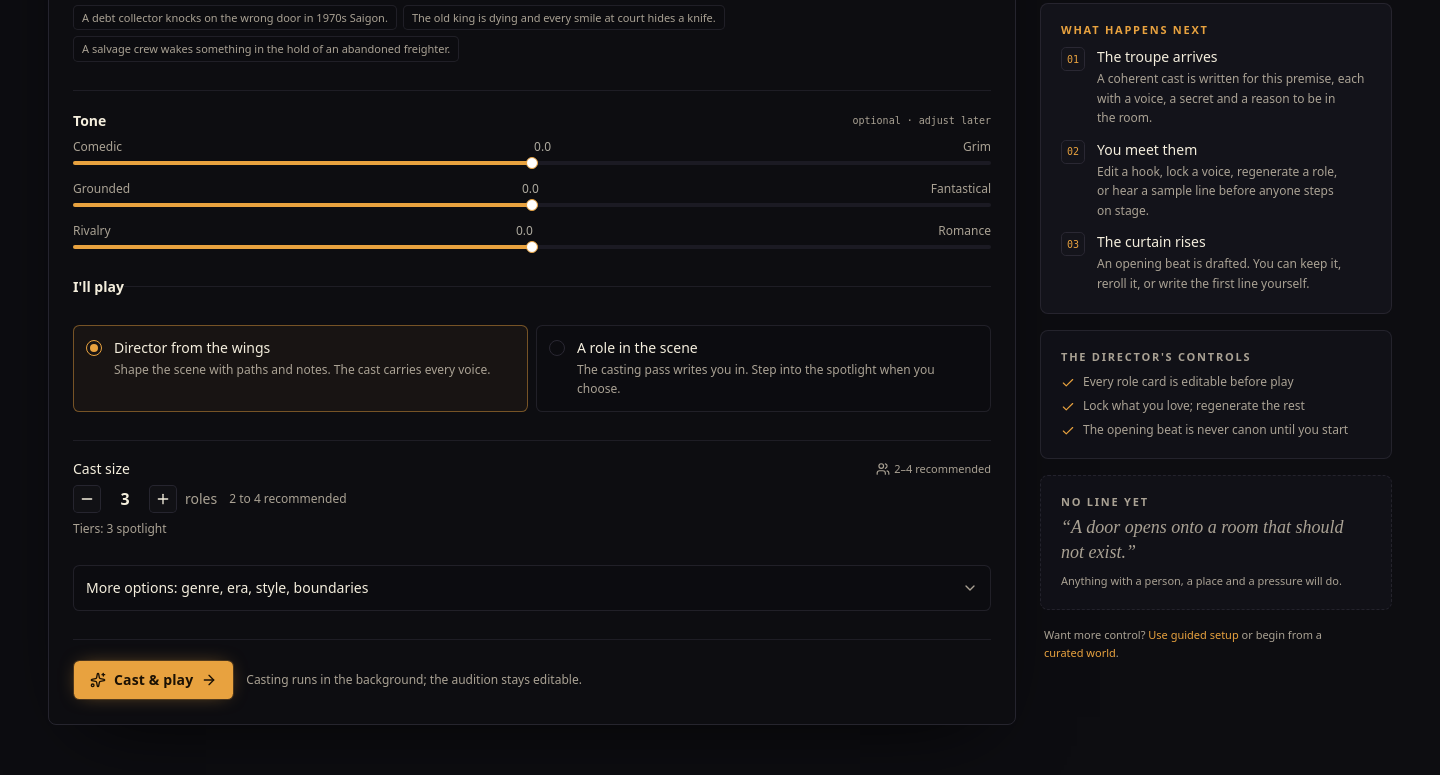
quick start › validation blocks an empty premise before any scene is created
(page scrolled)
Click the button "Cast & play" at (154, 680), box [73,660,234,700]
(page scrolled)
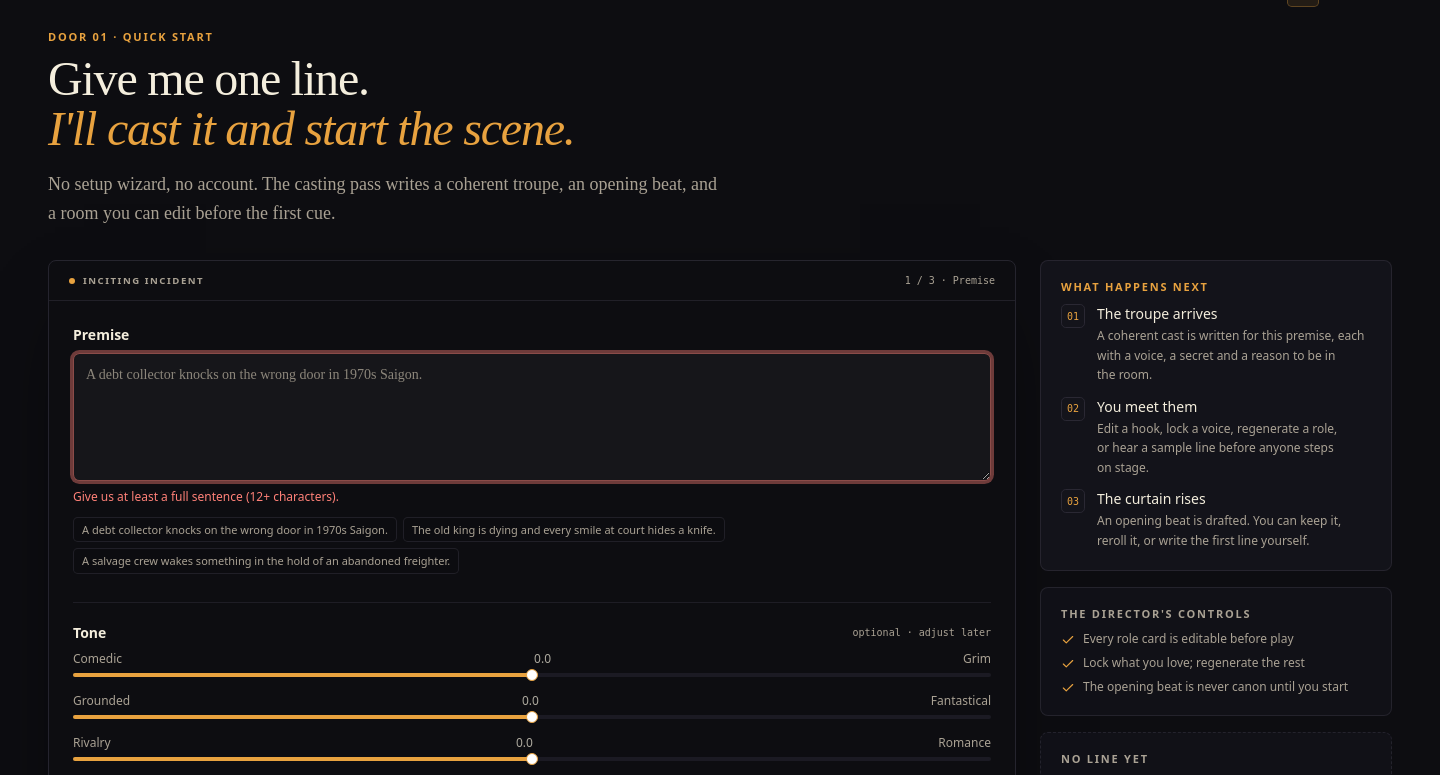
Expected: the heading "Give me one line. I'll cast it and start the scene." is shown, [48,52,575,155]
Expected: the text "Give us at least a full sentence (12+ characters)." is shown, [73,488,339,505]
